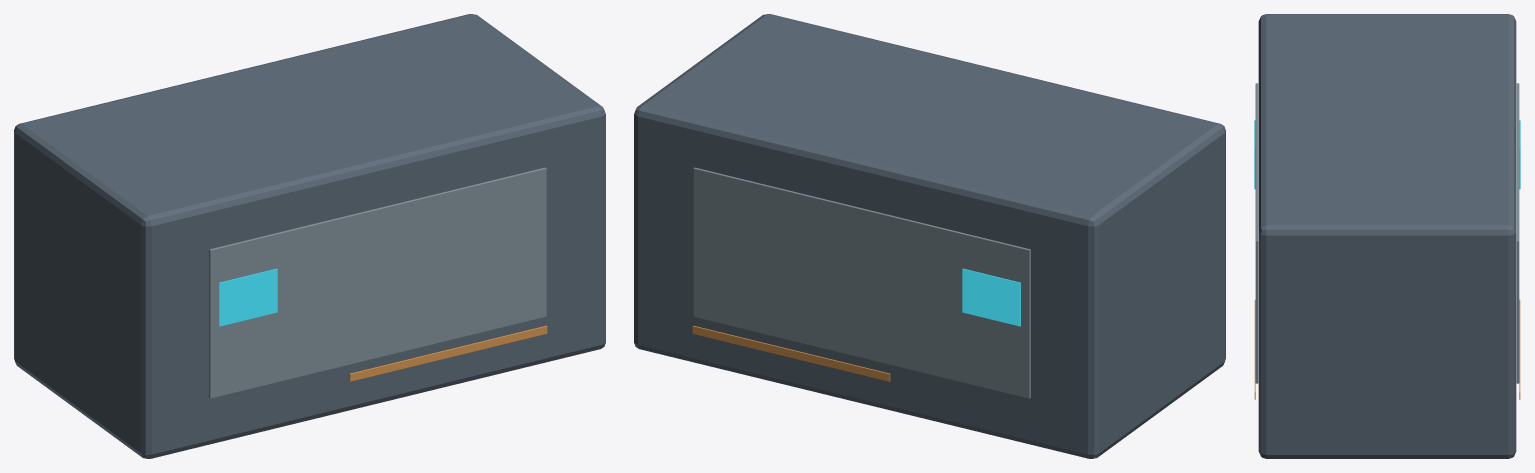
File: maintenance-unit.glb
3 renders of one model, left to right at view 1: azimuth 30°, elevation 25°; view 2: azimuth 150°, elevation 25°; view 3: azimuth 270°, elevation 25°, orthographic. The views are drawn at different scales.
Parts seen in each view (by area): view 1: Visual_MaintenanceUnit_Shell, Visual_Merged_ZA_MaintenanceUnit_Root_Neutral_Steel, Visual_Merged_ZA_MaintenanceUnit_Root_Screen_Dark, Visual_Merged_ZA_MaintenanceUnit_Root_Warning_Orange; view 2: Visual_MaintenanceUnit_Shell, Visual_Merged_ZA_MaintenanceUnit_Root_Neutral_Steel, Visual_Merged_ZA_MaintenanceUnit_Root_Screen_Dark, Visual_Merged_ZA_MaintenanceUnit_Root_Warning_Orange; view 3: Visual_MaintenanceUnit_Shell, Visual_Merged_ZA_MaintenanceUnit_Root_Neutral_Steel, Visual_Merged_ZA_MaintenanceUnit_Root_Warning_Orange, Visual_Merged_ZA_MaintenanceUnit_Root_Screen_Dark.
Boxes of the visible parts, left/top/right/bottom form: Visual_MaintenanceUnit_Shell: left=14, top=14, right=605, bottom=458; Visual_Merged_ZA_MaintenanceUnit_Root_Neutral_Steel: left=209, top=167, right=546, bottom=398; Visual_Merged_ZA_MaintenanceUnit_Root_Screen_Dark: left=219, top=268, right=277, bottom=326; Visual_Merged_ZA_MaintenanceUnit_Root_Warning_Orange: left=349, top=325, right=547, bottom=381; Visual_MaintenanceUnit_Shell: left=634, top=14, right=1225, bottom=458; Visual_Merged_ZA_MaintenanceUnit_Root_Neutral_Steel: left=693, top=167, right=1030, bottom=398; Visual_Merged_ZA_MaintenanceUnit_Root_Screen_Dark: left=962, top=268, right=1020, bottom=326; Visual_Merged_ZA_MaintenanceUnit_Root_Warning_Orange: left=692, top=325, right=890, bottom=381; Visual_MaintenanceUnit_Shell: left=1258, top=14, right=1516, bottom=458; Visual_Merged_ZA_MaintenanceUnit_Root_Neutral_Steel: left=1255, top=83, right=1519, bottom=383; Visual_Merged_ZA_MaintenanceUnit_Root_Warning_Orange: left=1254, top=299, right=1520, bottom=399; Visual_Merged_ZA_MaintenanceUnit_Root_Screen_Dark: left=1254, top=120, right=1520, bottom=189.
Bounding box in the file's own units: 8 × 4 × 4.13.
